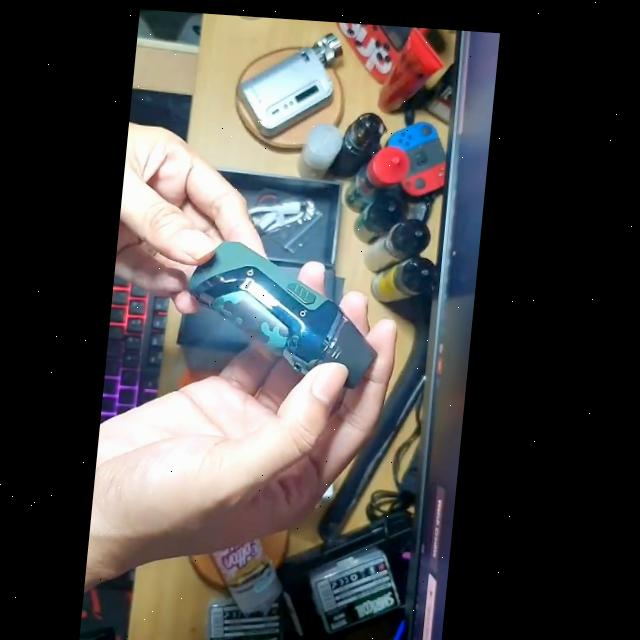vape: (188, 236, 395, 387), (236, 23, 346, 140)
